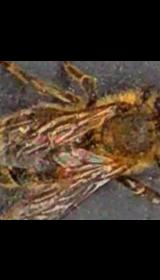varroa_mite: (55, 164, 76, 192)
